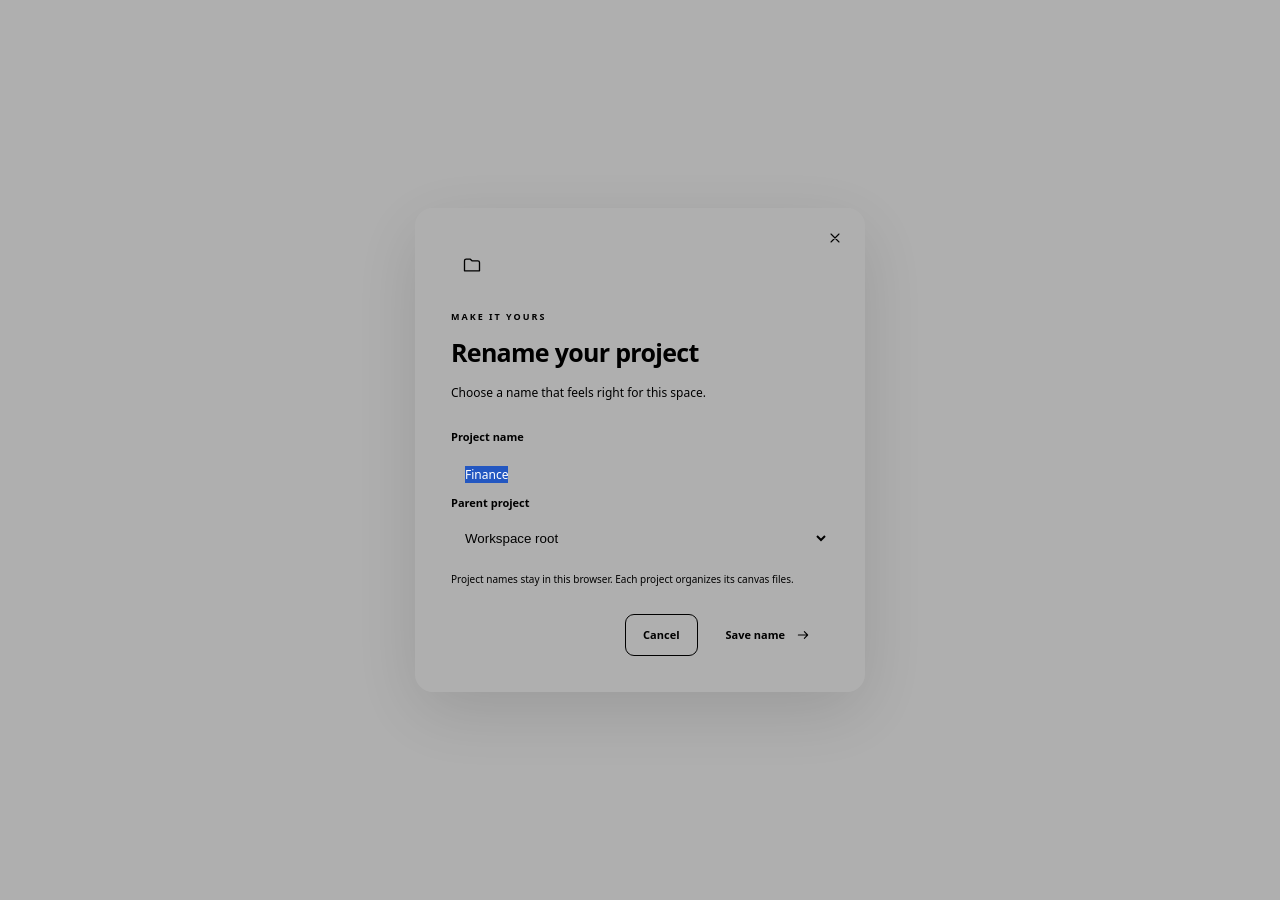
Scenario: project parent dialog › reports a rejected parent move and clears the stale error after choosing another parent
Click the button "Save name" at point(768, 635), box [708, 614, 829, 656]
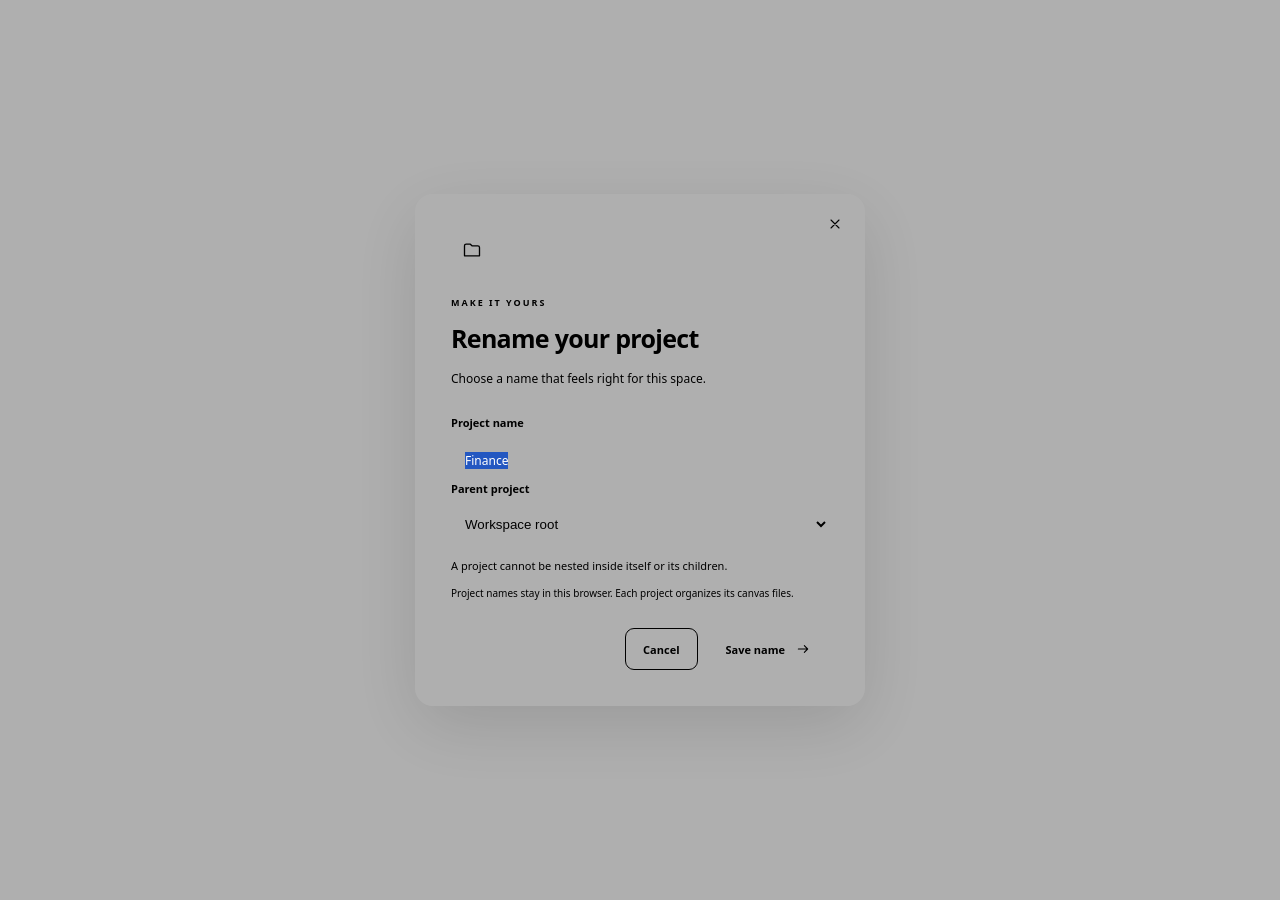
Expected: the message shows "cannot be nested", [451, 558, 727, 572]
Select "Savings" in the dropdown labelled "Parent project" at point(640, 524), box [451, 506, 829, 542]
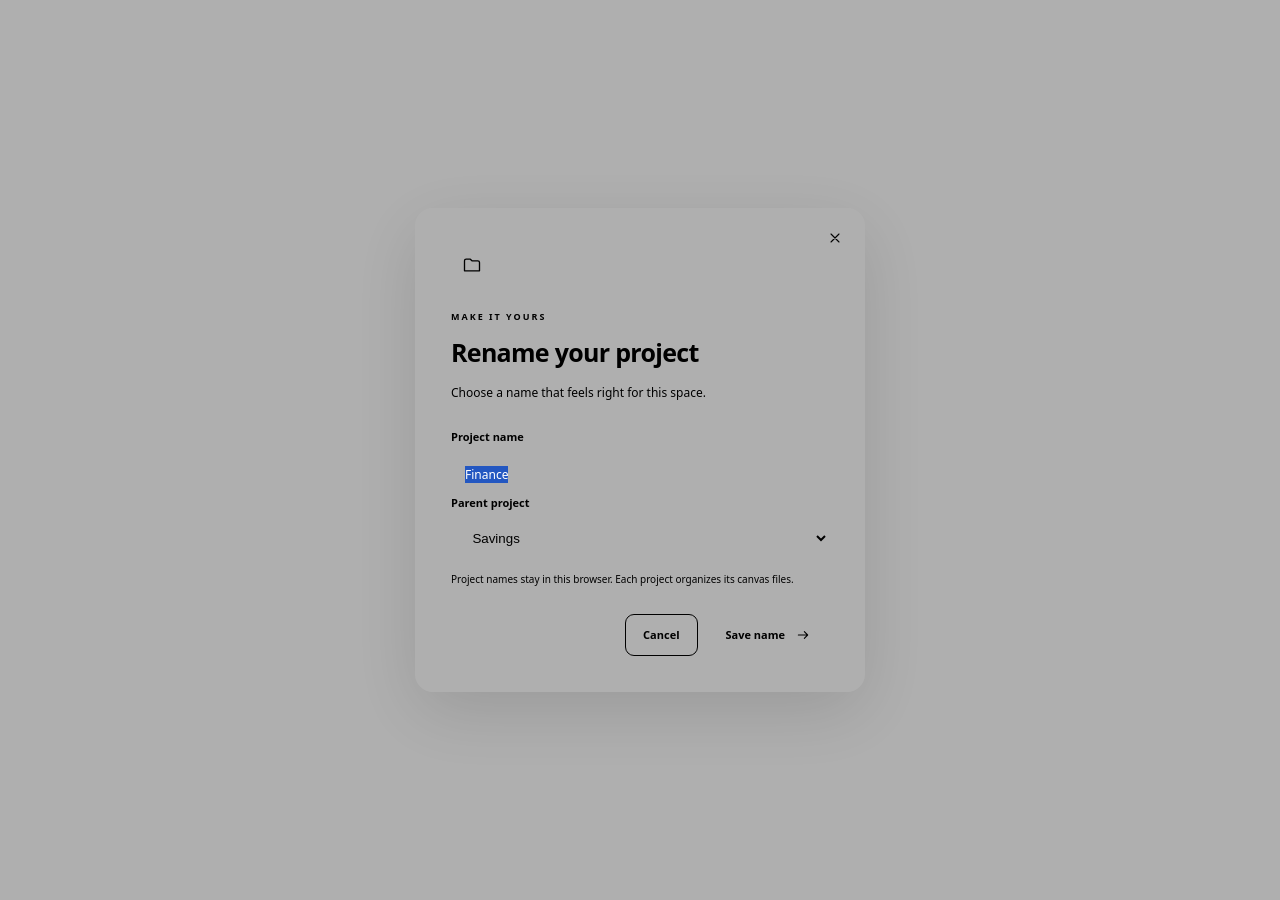
Expected: the field labelled "Project name" holds "Finance", [451, 454, 829, 495]
Expected: the message "A project cannot be nested inside itself or its children." is gone
